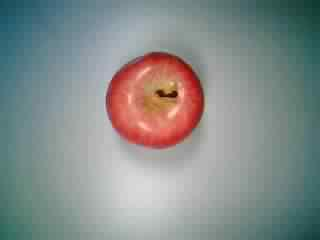apple: (102, 50, 206, 154)
